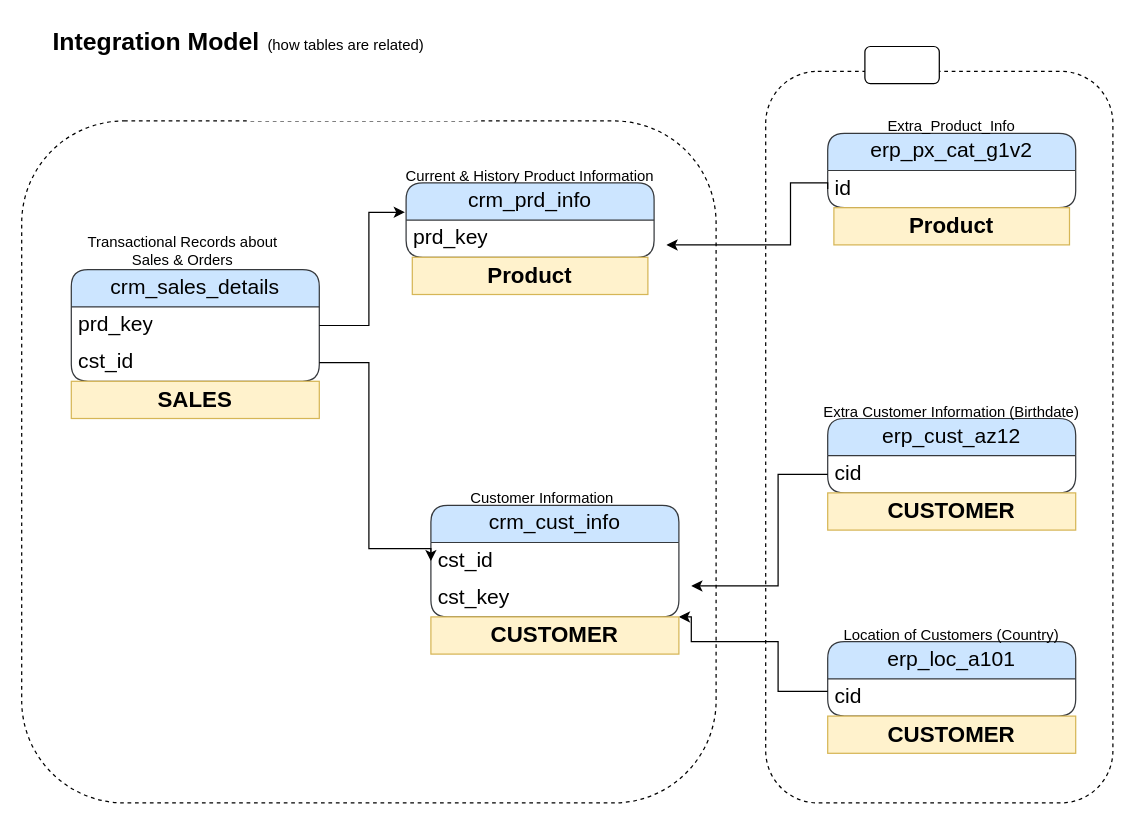
Some shapes in this 1135 by 825 pixel diagram are drawn without their labels. Here are the shapes that lost their labels. From the top down, the centre of each, then its label:
pixel 901 64: ERP
pixel 362 101: CRM
